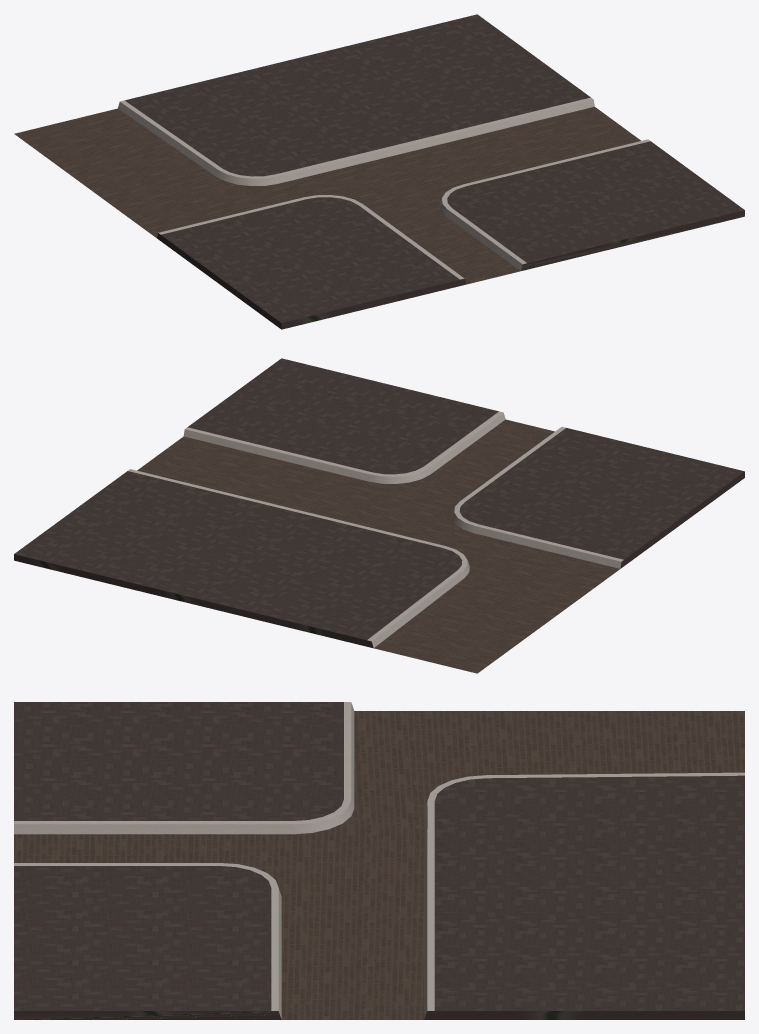
File: Chunk01_Street.fbx
3 renders of one model, top to bottom at view 1: azimuth 30°, elevation 25°; view 2: azimuth 150°, elevation 25°; view 3: azimuth 270°, elevation 25°, orthographic. The views are drawn at different scales.
Visible parts, largest first — view 1: Cube.003; view 2: Cube.003; view 3: Cube.003.
Boxes of the visible parts, left/top/right/bottom form: Cube.003: left=14, top=14, right=744, bottom=329; Cube.003: left=14, top=358, right=744, bottom=673; Cube.003: left=14, top=702, right=744, bottom=1019.
Bounding box in the file's own units: 3000 × 40 × 3000.
